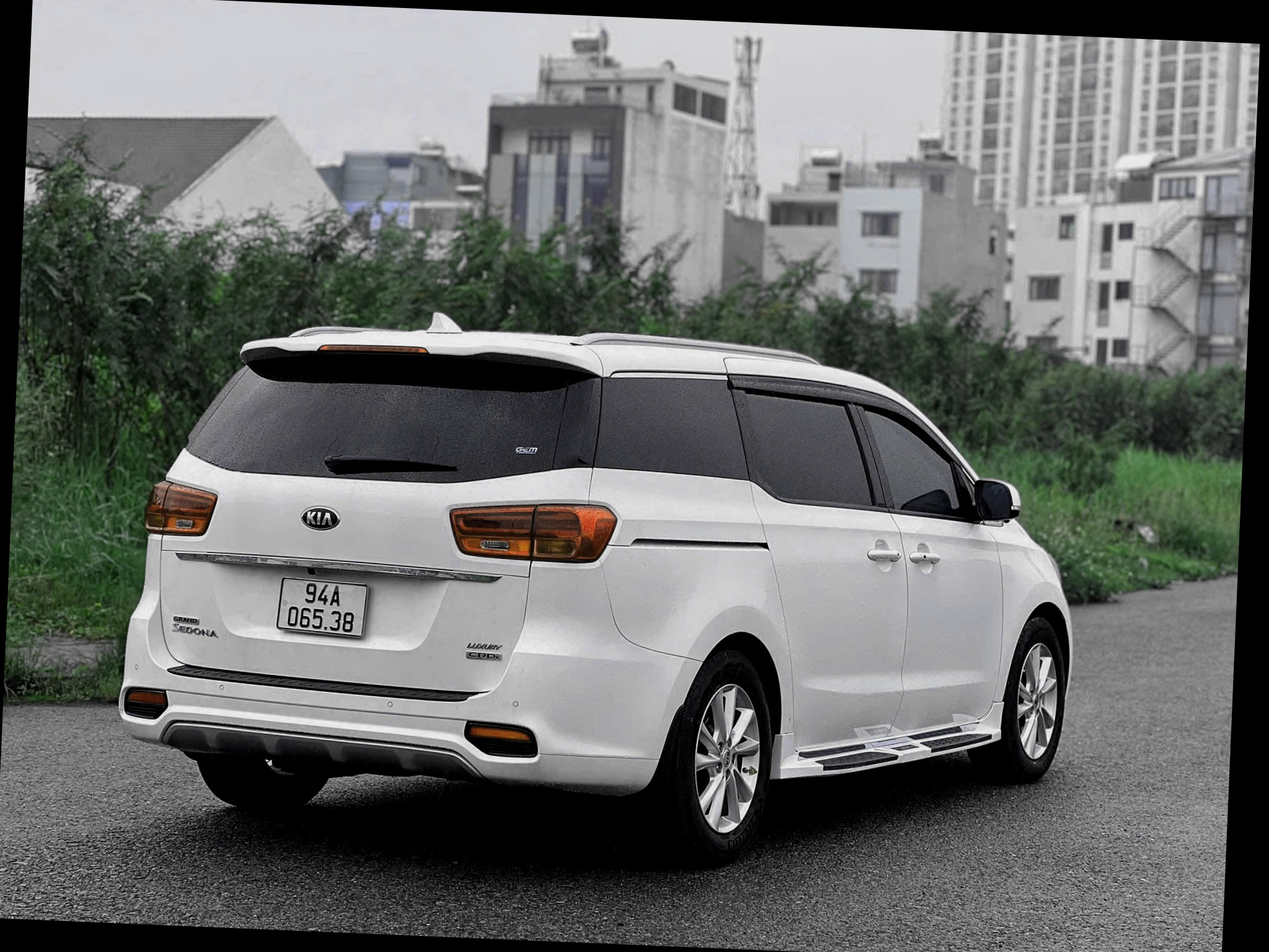Bien-so: (268, 568, 375, 647)
